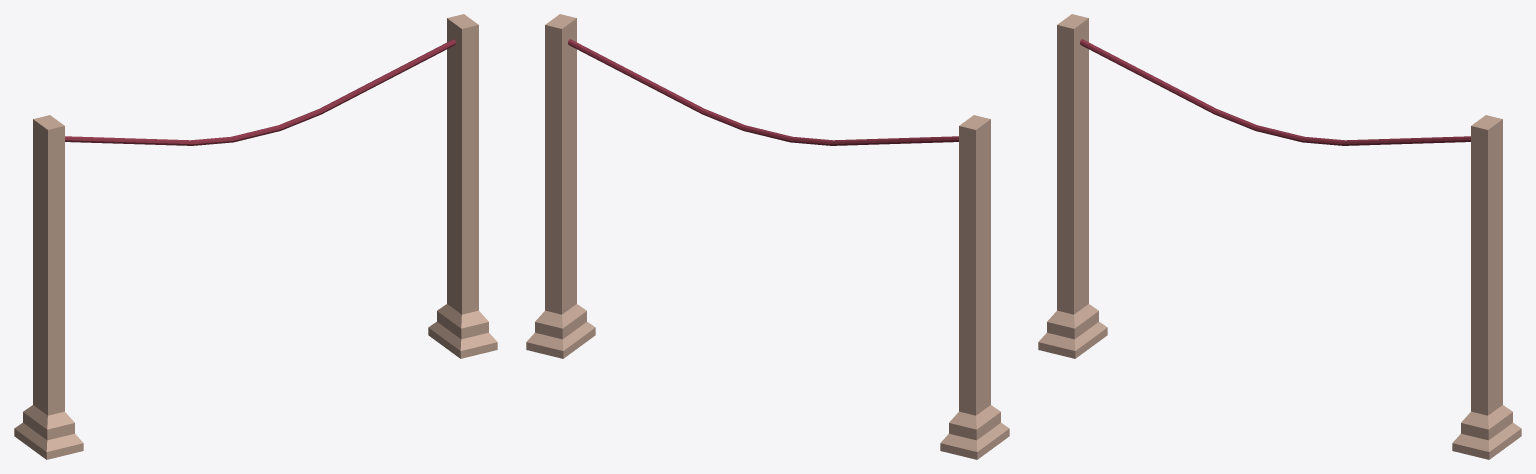
Rendered from GKVbarricade.fbx.
3 views of the same model, side by side, from view 1: azimuth 30°, elevation 25°; view 2: azimuth 150°, elevation 25°; view 3: azimuth 330°, elevation 25° (orthographic).
Parts seen in each view (by area): view 1: RopeBarrier; view 2: RopeBarrier; view 3: RopeBarrier.
Part boxes in pixels (bbox=[...]): RopeBarrier: bbox=[14, 14, 497, 459]; RopeBarrier: bbox=[526, 14, 1009, 459]; RopeBarrier: bbox=[1038, 14, 1521, 459].
Size of the model in its own units: 400 by 272 by 49.74.
